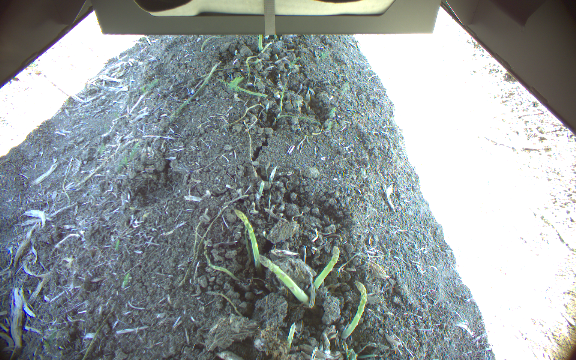aspa: (253, 253, 308, 306), (232, 207, 262, 269), (339, 279, 368, 340), (308, 244, 341, 295), (257, 35, 264, 51)
